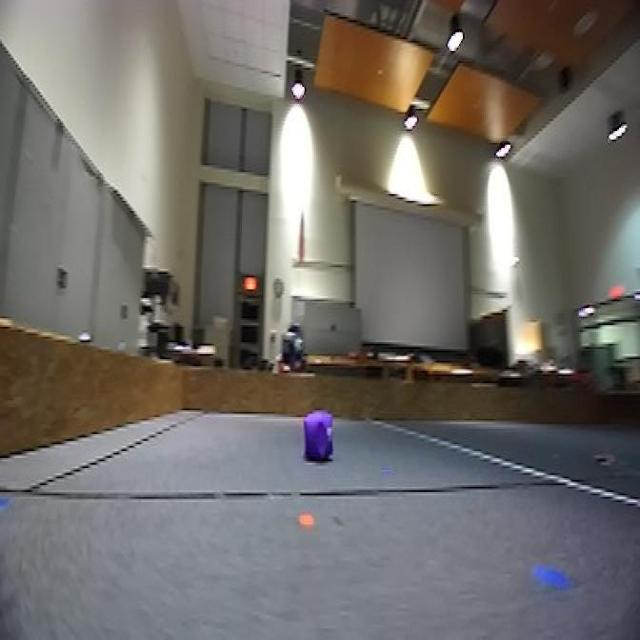frc_cube: (303, 408, 336, 464)
